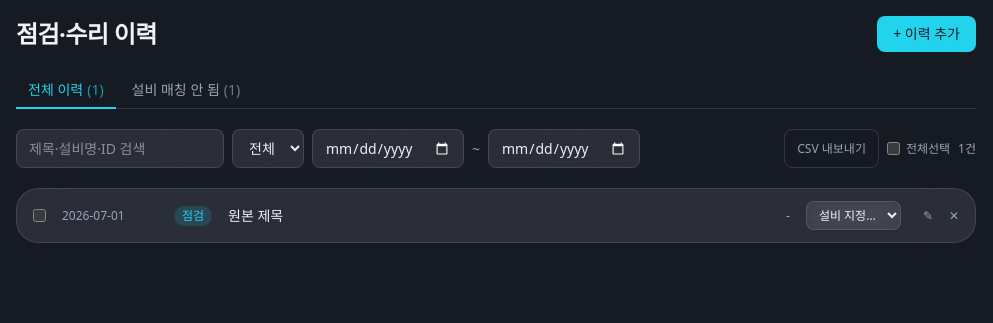
HistoryBrowser › 기존 이력이 있을 때 › ✎ 버튼으로 인라인 수정하면 store가 갱신된다
This screenshot has width=993, height=323.
Click the button named "이력 수정".
click(928, 216)  # box 917,202 -> 939,230
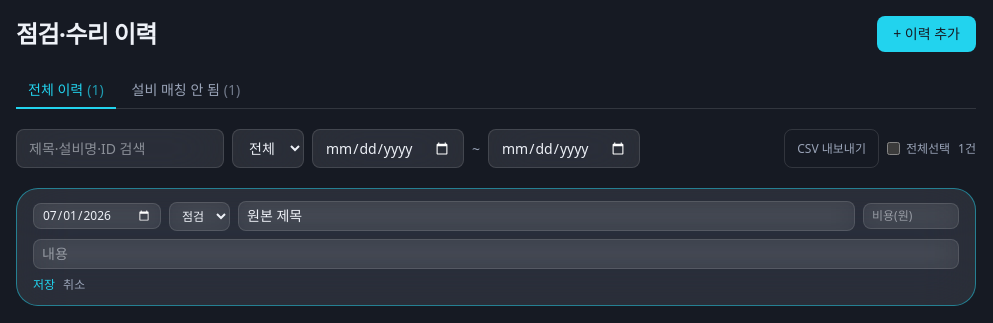
Replace the text in the field showing "원본 제목" with "수정된 제목" at (546, 216), box 238,201 -> 855,231
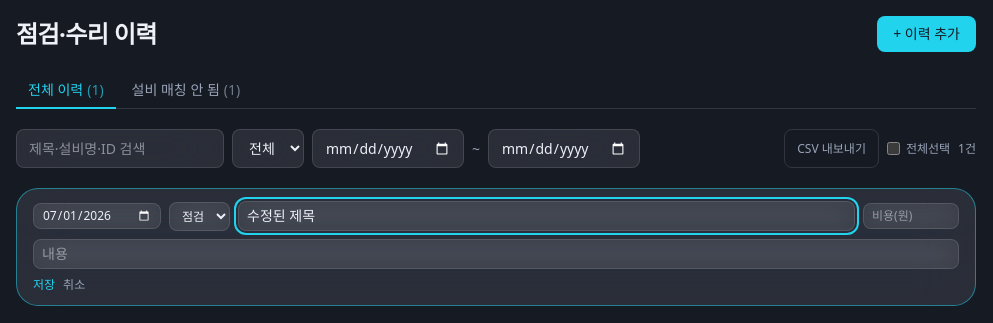
Click the button "저장".
click(44, 285)  # box 33,277 -> 55,293
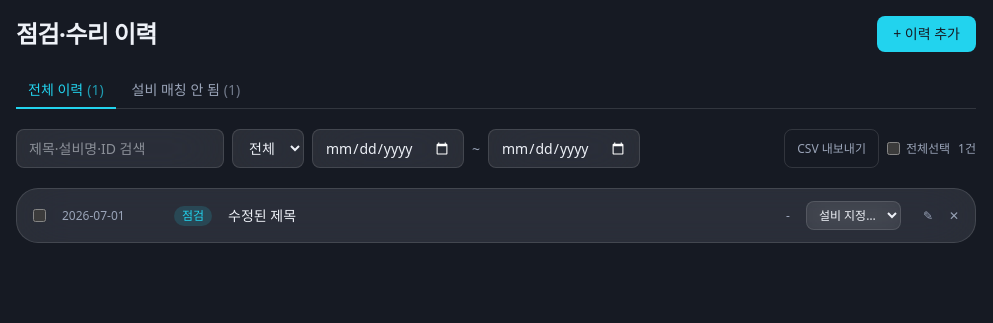
Expected: the text "수정된 제목" is shown, 228,206 -> 296,224
